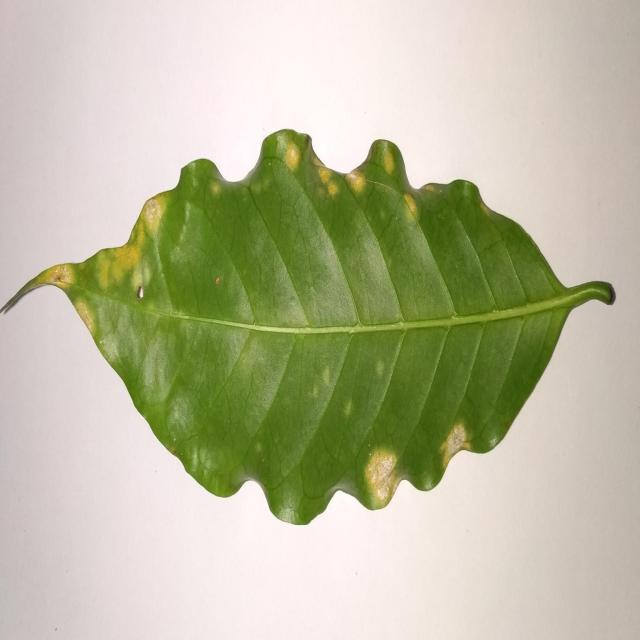rust: (360, 445, 402, 509), (438, 419, 473, 472), (138, 191, 171, 238), (36, 264, 76, 297), (315, 158, 341, 201), (73, 297, 94, 339), (401, 187, 422, 224), (346, 160, 368, 192), (286, 132, 300, 172)
